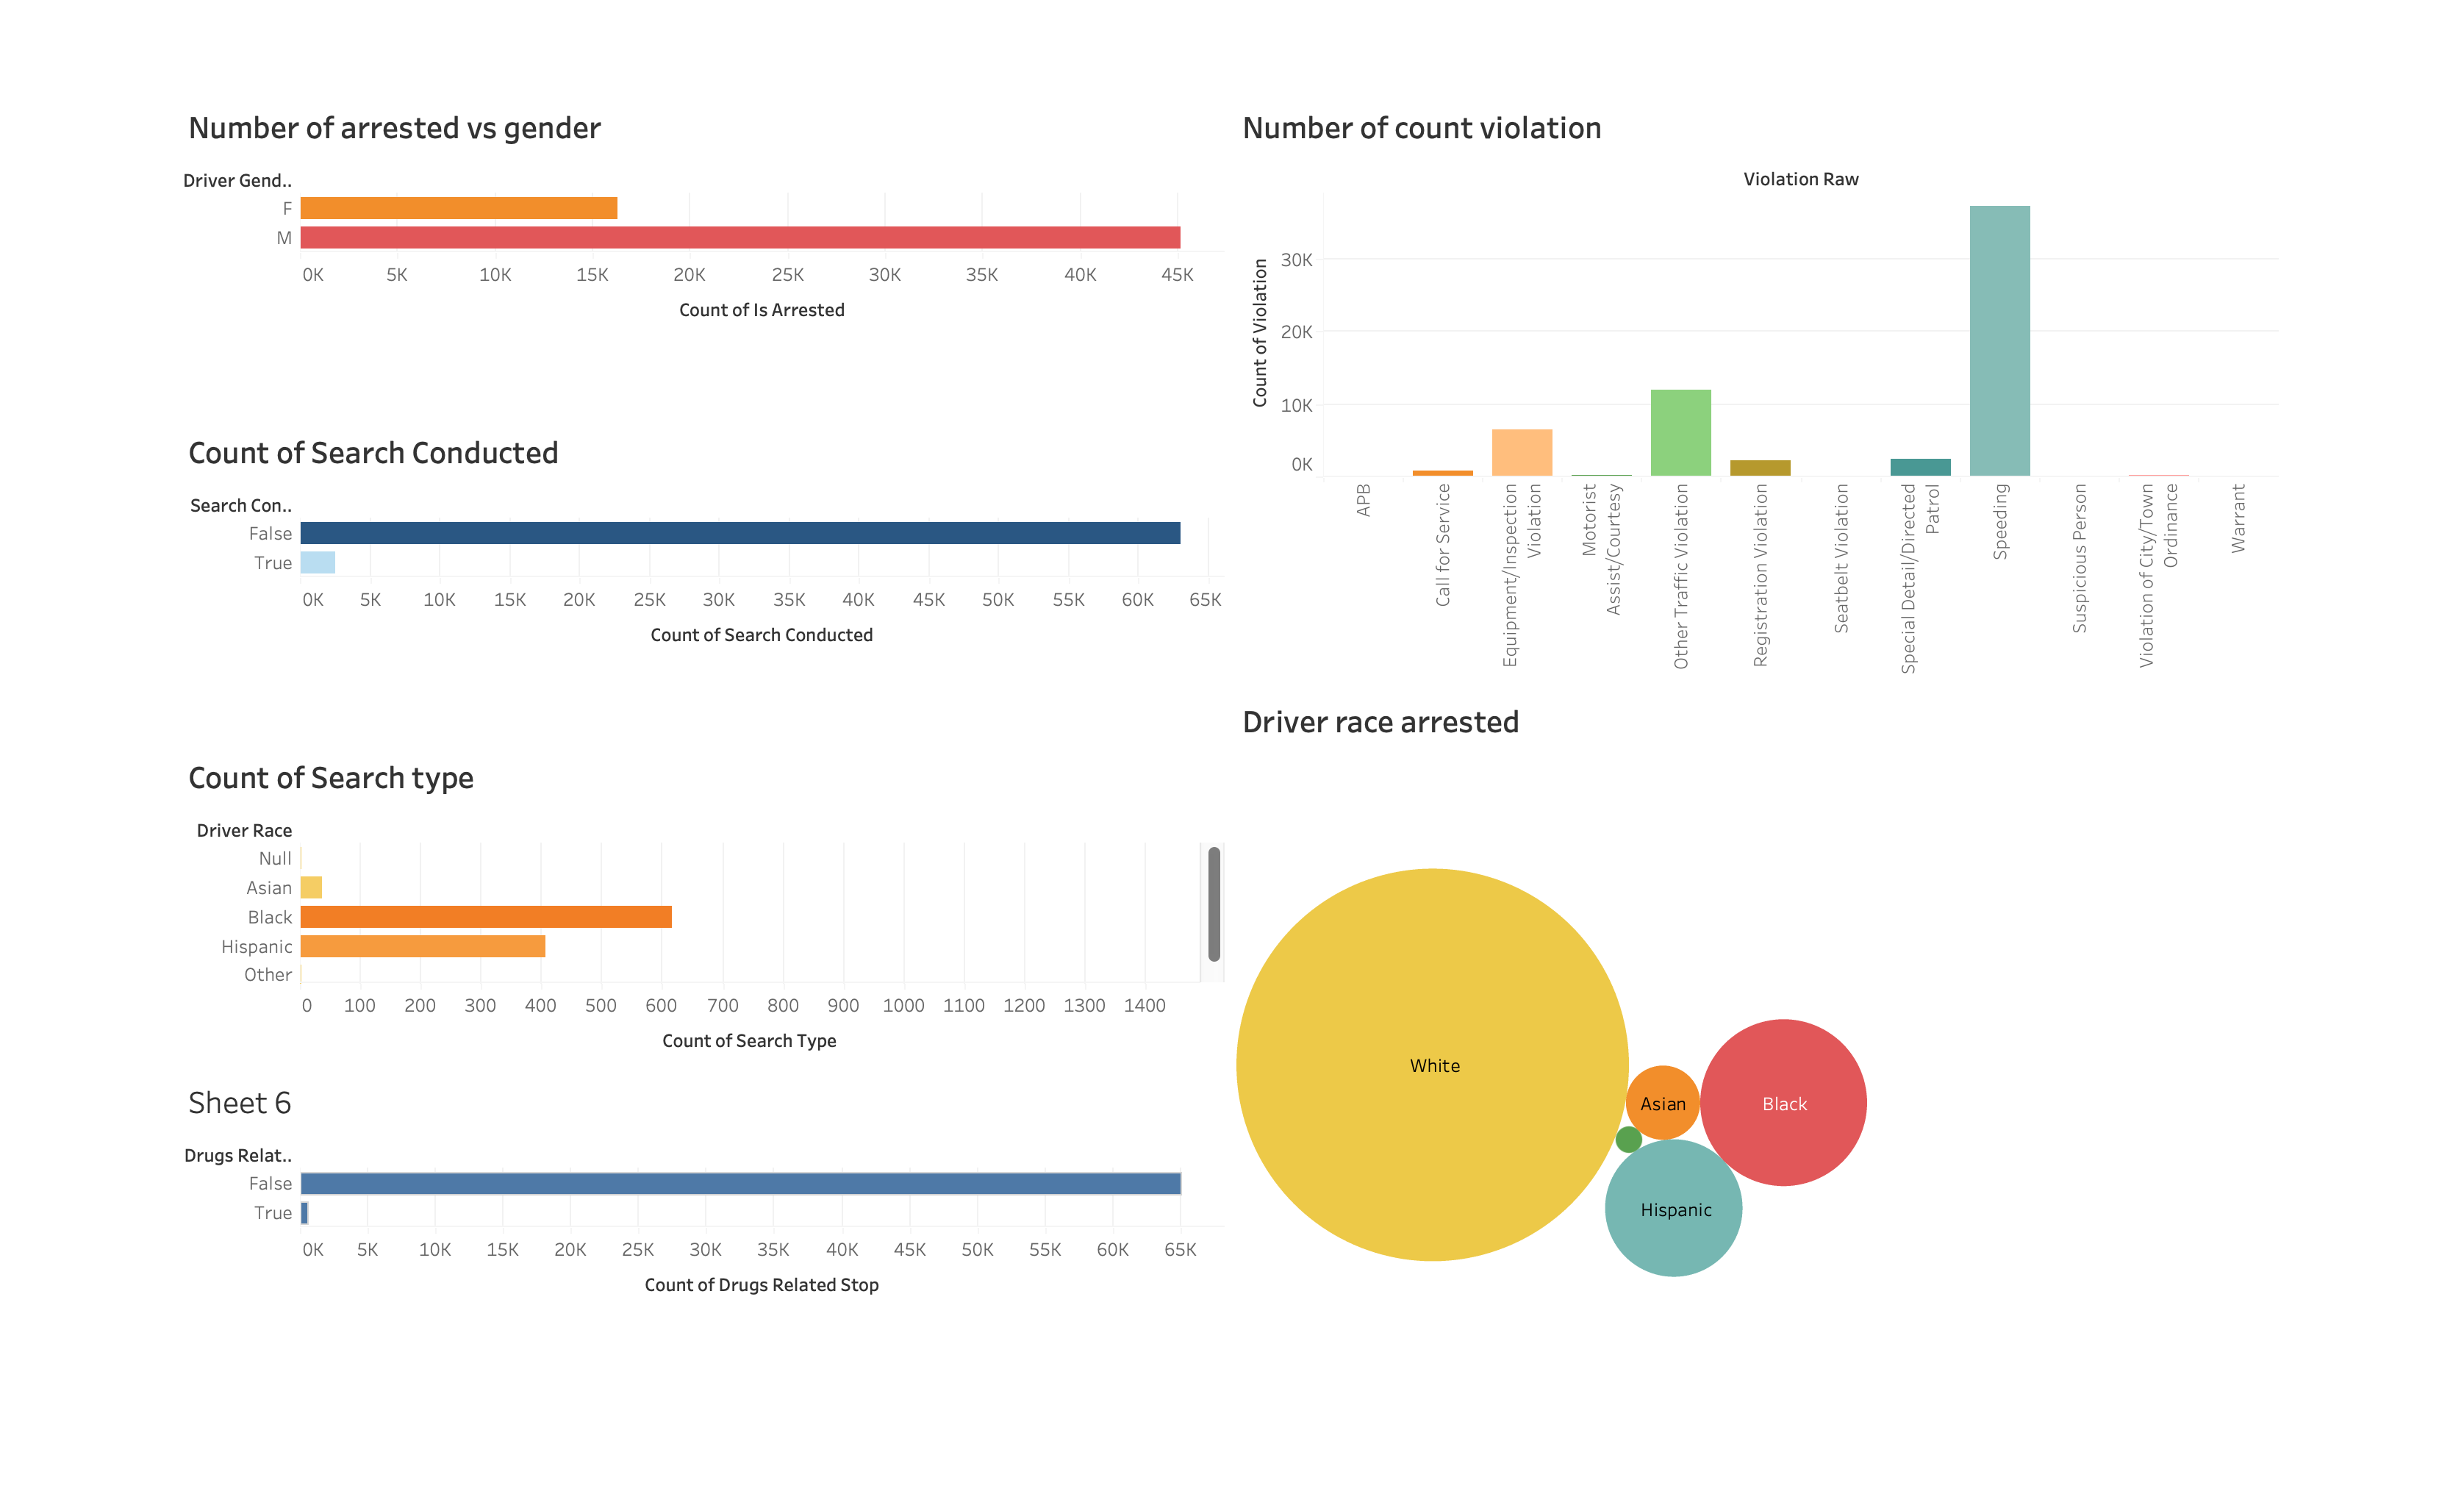

What the dashboard file says about the page in this screenshot:
{"tool":"tableau","page":{"name":"Dashboard 1","canvas":[1450,900],"ordinal":0},"visuals":[{"type":"worksheet","title":"Sheet 1","mark":"Automatic","rows":["driver_gender"],"cols":["is_arrested"],"box":[8,8,717,221]},{"type":"worksheet","title":"Sheet 2","mark":"Automatic","rows":["violation"],"cols":["violation_raw"],"box":[725,8,717,404]},{"type":"worksheet","title":"Sheet 5","mark":"Automatic","rows":["search_conducted"],"cols":["search_conducted"],"box":[8,229,717,221]},{"type":"worksheet","title":"Sheet 4","mark":"Circle","box":[725,412,717,480]},{"type":"worksheet","title":"Sheet 3","mark":"Automatic","rows":["driver_race"],"cols":["search_type"],"box":[8,450,717,221]},{"type":"worksheet","title":"Sheet 6","mark":"Automatic","rows":["drugs_related_stop"],"cols":["drugs_related_stop"],"box":[8,671,717,221]}]}

Visuals, with their boxes in screenshot pixels (x1, y1, x2, y2), scaled from the page's 1450x900 canvas onto the 2464x1494 screenshot:
"Sheet 1" worksheet: box=[13, 13, 1232, 380]
"Sheet 2" worksheet: box=[1232, 13, 2451, 684]
"Sheet 5" worksheet: box=[13, 380, 1232, 747]
"Sheet 4" worksheet (Circle marks): box=[1232, 684, 2451, 1481]
"Sheet 3" worksheet: box=[13, 747, 1232, 1114]
"Sheet 6" worksheet: box=[13, 1114, 1232, 1481]
